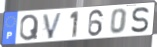0: (109, 7, 128, 36)
1: (69, 10, 80, 39)
6: (87, 8, 105, 37)
Q: (19, 13, 40, 42)
S: (130, 6, 151, 34)
V: (42, 11, 64, 40)
